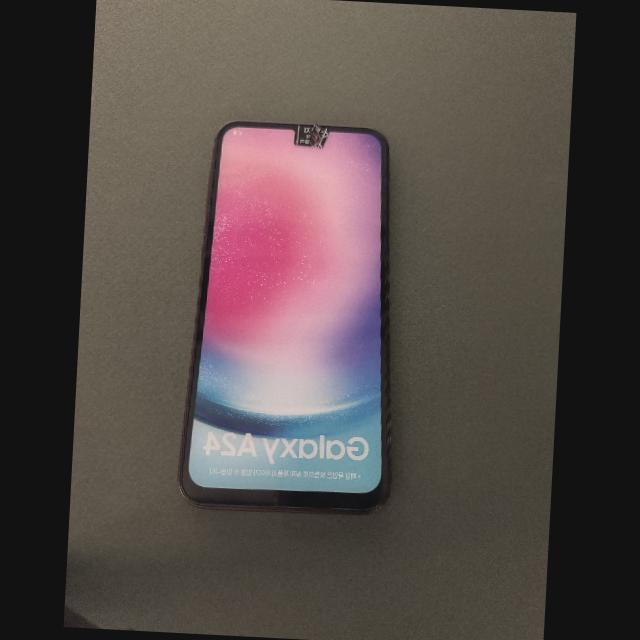phone: (180, 122, 390, 514)
sticker: (293, 123, 331, 149)
